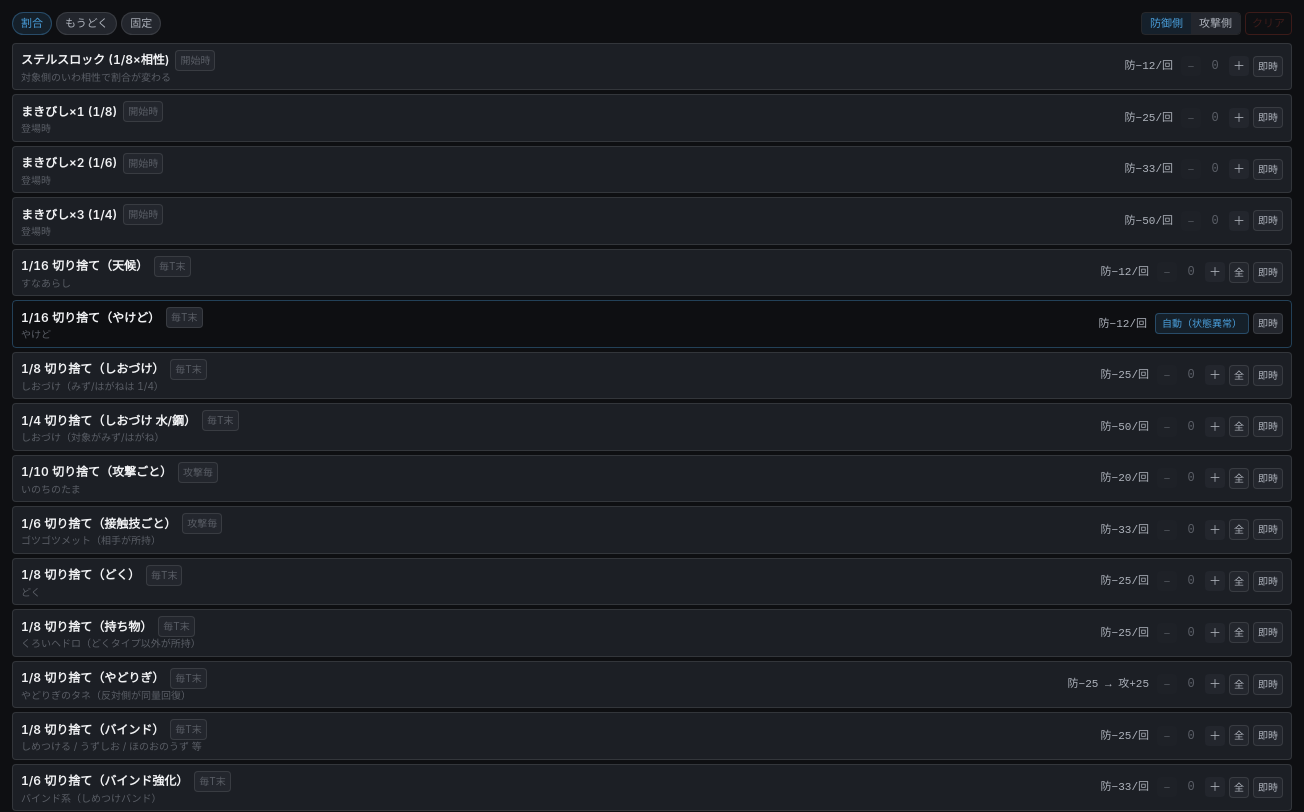
導出効果の UI 表示 › カタログ行は「自動（持ち物）」バッジを出し、回数ステッパーを出さない
The image size is (1304, 812).
Expected: the text with test id "passive-row-burn-auto" reads "自動（状態異常）", x1=1155 y1=313 x2=1249 y2=334
Click the button "攻撃側". click: [1216, 23]
box: x1=1191 y1=13 x2=1240 y2=34
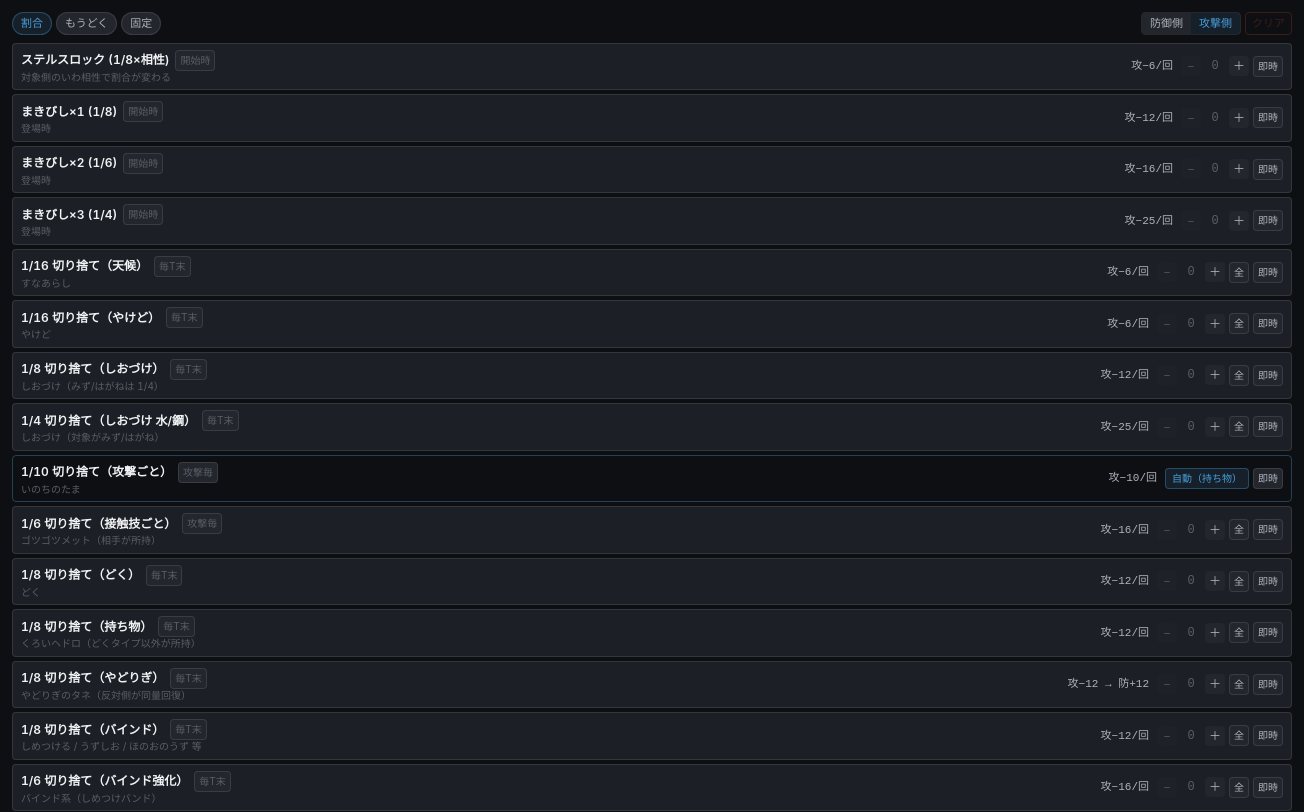
Expected: the text with test id "passive-row-lifeOrb-auto" reads "自動（持ち物）", x1=1165 y1=468 x2=1249 y2=489
